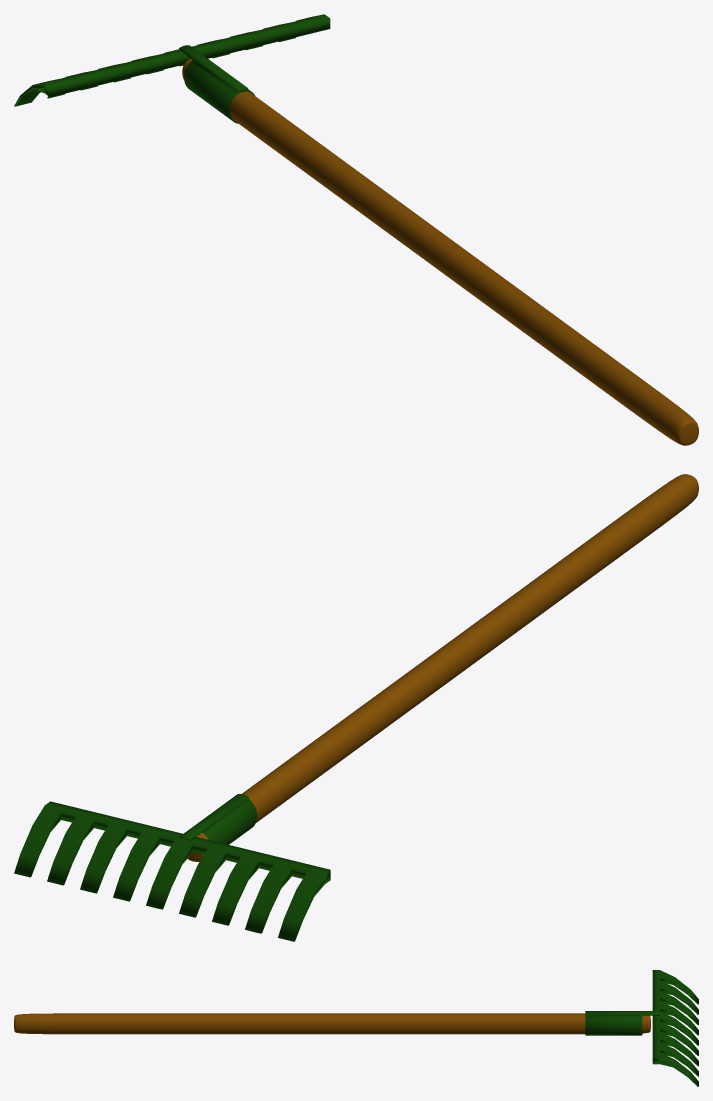
Rendered from enxada.fbx.
3 renders of one model, top to bottom at view 1: azimuth 30°, elevation 25°; view 2: azimuth 150°, elevation 25°; view 3: azimuth 270°, elevation 25°, orthographic. The views are drawn at different scales.
Parts seen in each view (by area): view 1: Cube.009, Cube.010, Cylinder.006; view 2: Cube.009, Cube.010, Cylinder.006; view 3: Cube.009, Cube.010, Cylinder.006.
Boxes of the visible parts, box(x1,y1,x2,y2) form: Cube.009: box(182, 58, 698, 445); Cube.010: box(14, 14, 330, 106); Cylinder.006: box(179, 45, 254, 123); Cube.009: box(187, 474, 698, 861); Cube.010: box(14, 801, 330, 941); Cylinder.006: box(179, 794, 257, 861); Cube.009: box(14, 1013, 650, 1034); Cube.010: box(652, 970, 698, 1086); Cylinder.006: box(585, 1011, 659, 1035).
Bounding box in the file's own units: 73.75 × 12.21 × 244.
